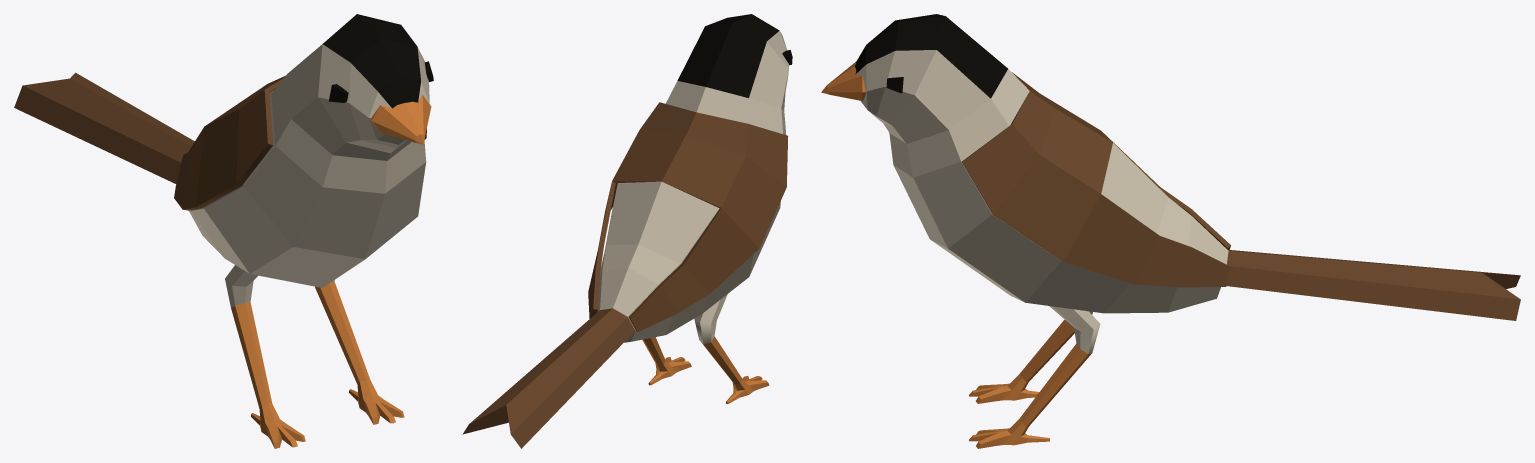
Rendered from Sparrow.glb.
3 renders of one model, left to right at view 1: azimuth 30°, elevation 25°; view 2: azimuth 150°, elevation 25°; view 3: azimuth 270°, elevation 25°, orthographic. The views are drawn at different scales.
Visible parts, largest first — view 1: sparrow; view 2: sparrow; view 3: sparrow.
Boxes of the visible parts, box(x1,y1,x2,y2) form: sparrow: box(14, 14, 433, 448); sparrow: box(462, 14, 792, 448); sparrow: box(821, 14, 1520, 448).
Bounding box in the file's own units: 0.1357 × 0.2855 × 0.4492.
Materials: 1 (1 with a texture image).
